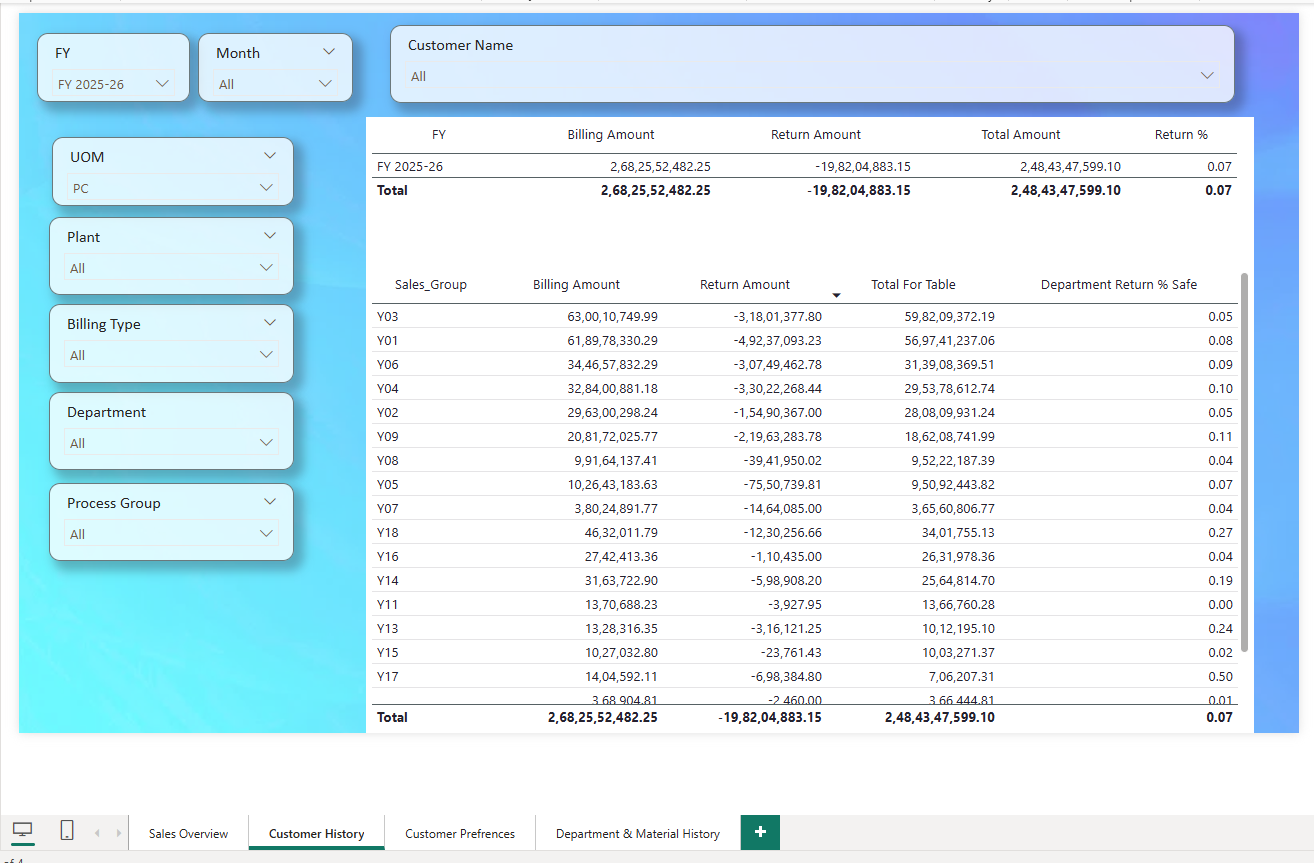

The page's visual inventory and layout, read from the dashboard file:
{"tool":"powerbi","page":{"name":"Customer History","canvas":[1280,720],"ordinal":1},"visuals":[{"type":"slicer","fields":{"Values":["DateTable.FY"]},"box":[18.5,20.4,152.7,69.1],"z":0},{"type":"slicer","title":"Month","fields":{"Values":["DateTable.Month Name"]},"box":[179,20.4,154.7,69.1],"z":1000},{"type":"slicer","fields":{"Values":["Unit Of Measurment.UOM"]},"box":[32.8,123.7,242,69],"z":2000},{"type":"slicer","fields":{"Values":["yngs_sales plant_master.Plant_Code"]},"box":[29.6,203.7,245.3,78.8],"z":3000},{"type":"slicer","fields":{"Values":["Document Type.Document Type"]},"box":[29.6,291.3,245.3,78.8],"z":4000},{"type":"slicer","fields":{"Values":["yngs_sales sales_group_master.Sales_Group"]},"box":[29.7,379,244.8,78.3],"z":5000},{"type":"slicer","fields":{"Values":["yngs_sales process_group_master.Process_Group_Name"]},"box":[29.7,469.9,244.8,78.3],"z":6000},{"type":"slicer","fields":{"Values":["yngs_sales bill_to_party_master.Bill_To_Party_Name"]},"box":[371,12,845,78],"z":7000},{"type":"tableEx","fields":{"Values":["DateTable.FY","sales_invoice_data.Billing Amount","sales_invoice_data.Return Amount","sales_invoice_data.Total For Table","sales_invoice_data.Return %"]},"box":[347,104.1,888,150],"z":8000},{"type":"tableEx","fields":{"Values":["yngs_sales sales_group_master.Sales_Group","sales_invoice_data.Billing Amount","sales_invoice_data.Return Amount","sales_invoice_data.Total For Table","sales_invoice_data.Department Return % Safe (Fixed)"]},"box":[347,254,888,466],"z":9000}]}

Visuals, with their boxes on the page's 1280x720 design canvas (x1, y1, x2, y2). These are canvas units, not pixel positions in the 1314x863 screenshot, which may show the page scaled, cropped or inside an application window:
slicer - DateTable.FY: x1=18 y1=20 x2=171 y2=90
"Month" slicer: x1=179 y1=20 x2=334 y2=90
slicer - Unit Of Measurment.UOM: x1=33 y1=124 x2=275 y2=193
slicer - yngs_sales plant_master.Plant_Code: x1=30 y1=204 x2=275 y2=282
slicer - Document Type.Document Type: x1=30 y1=291 x2=275 y2=370
slicer - yngs_sales sales_group_master.Sales_Group: x1=30 y1=379 x2=274 y2=457
slicer - yngs_sales process_group_master.Process_Group_Name: x1=30 y1=470 x2=274 y2=548
slicer - yngs_sales bill_to_party_master.Bill_To_Party_Name: x1=371 y1=12 x2=1216 y2=90
tableEx - DateTable.FY x sales_invoice_data.Billing Amount: x1=347 y1=104 x2=1235 y2=254
tableEx - yngs_sales sales_group_master.Sales_Group x sales_invoice_data.Billing Amount: x1=347 y1=254 x2=1235 y2=720
